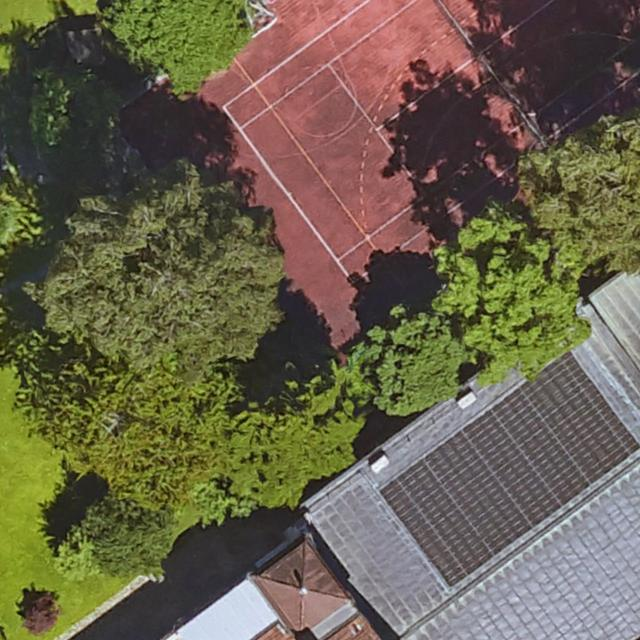tree: (48, 195, 275, 369), (35, 328, 231, 508), (427, 230, 589, 371), (520, 117, 640, 275), (238, 403, 356, 501), (107, 0, 242, 79), (356, 321, 464, 405), (35, 63, 119, 167), (70, 499, 166, 579), (0, 169, 43, 261)
